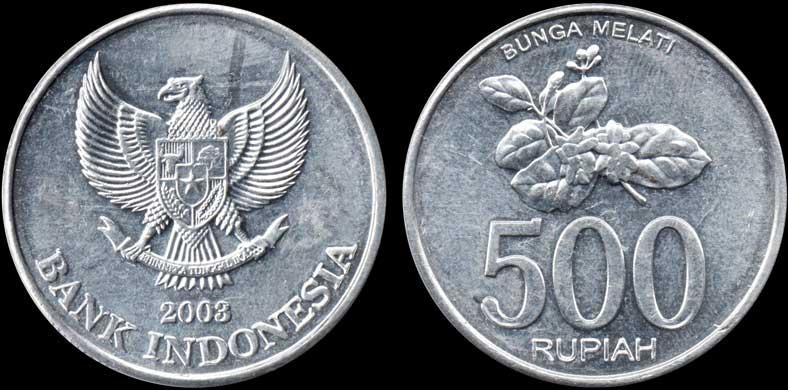coin_500_e2003: (0, 0, 388, 390), (404, 0, 788, 390)
